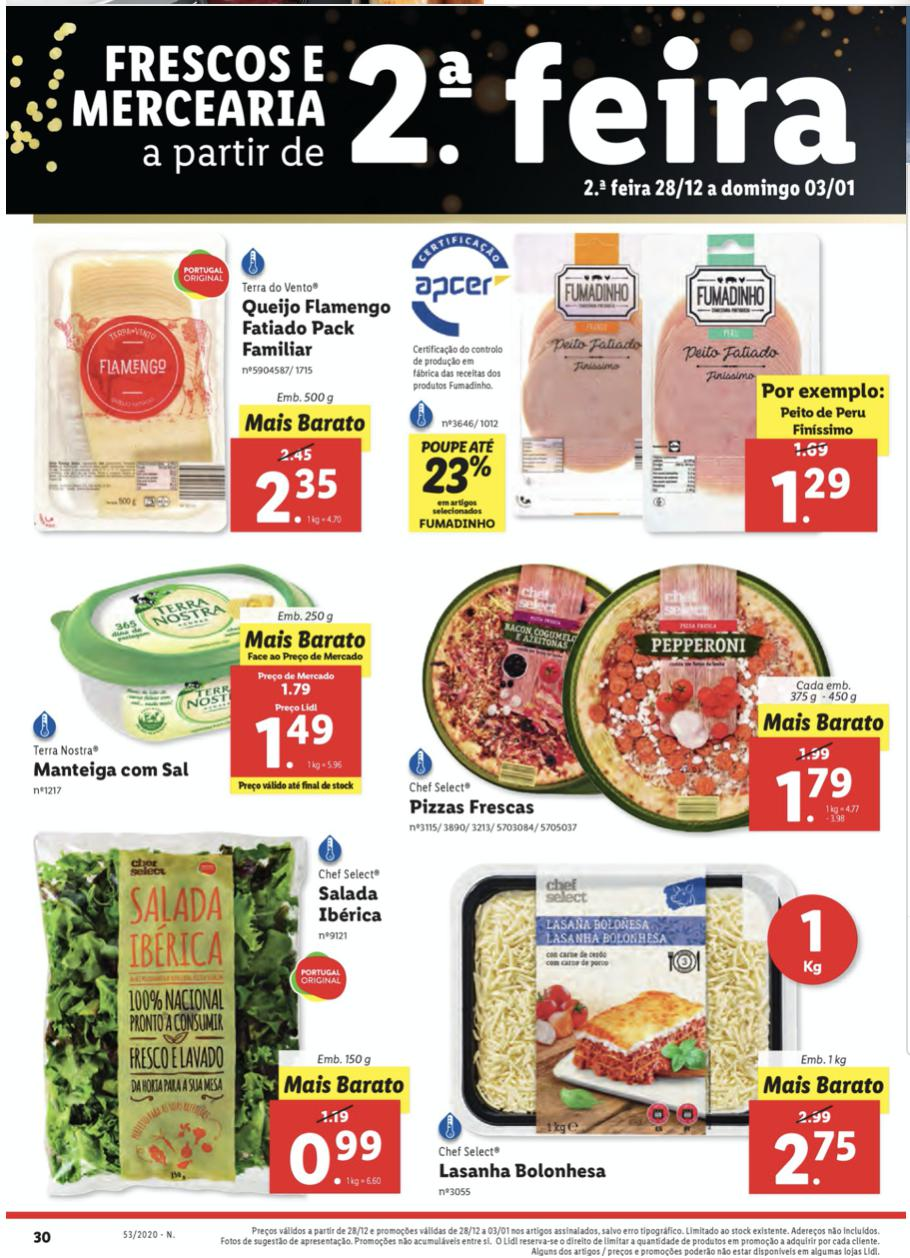name: (240, 295, 394, 359), (30, 756, 195, 786), (433, 1158, 615, 1184), (306, 881, 395, 925), (406, 792, 539, 820)
price: (228, 662, 359, 775), (745, 440, 878, 531), (231, 439, 359, 530), (748, 1101, 876, 1192), (269, 1100, 397, 1190), (756, 739, 881, 830)
product: (409, 850, 887, 1200), (408, 226, 894, 550), (14, 828, 405, 1203), (406, 569, 892, 839), (19, 234, 400, 553), (17, 567, 400, 814)
promotion: (406, 434, 506, 533)
